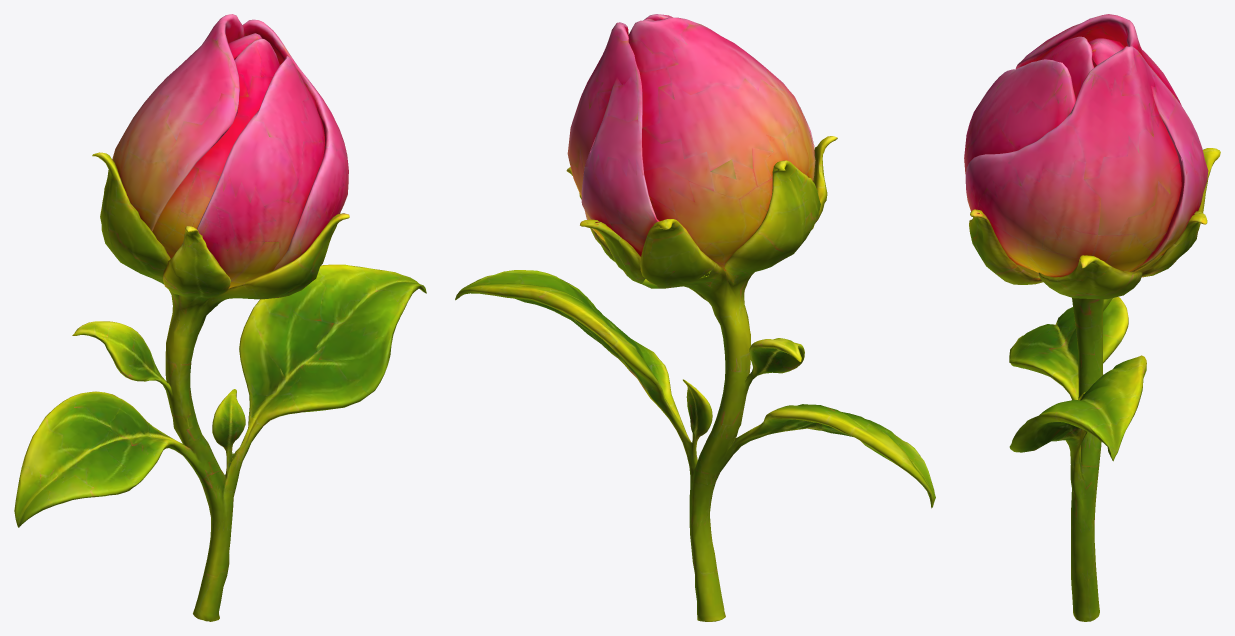
The model's file is bud_pink.glb.
The picture shows the model from 3 angles, left to right: view 1: azimuth 30°, elevation 25°; view 2: azimuth 150°, elevation 25°; view 3: azimuth 270°, elevation 25°; orthographic projection. The views are drawn at different scales.
Parts seen in each view (by area): view 1: geometry_0; view 2: geometry_0; view 3: geometry_0.
Boxes of the visible parts, left/top/right/bottom form: geometry_0: left=14, top=14, right=426, bottom=621; geometry_0: left=455, top=14, right=935, bottom=621; geometry_0: left=964, top=14, right=1220, bottom=621.
Size of the model in its own units: 0.7471 by 0.9507 by 0.3594.
1 material, 1 textured.
